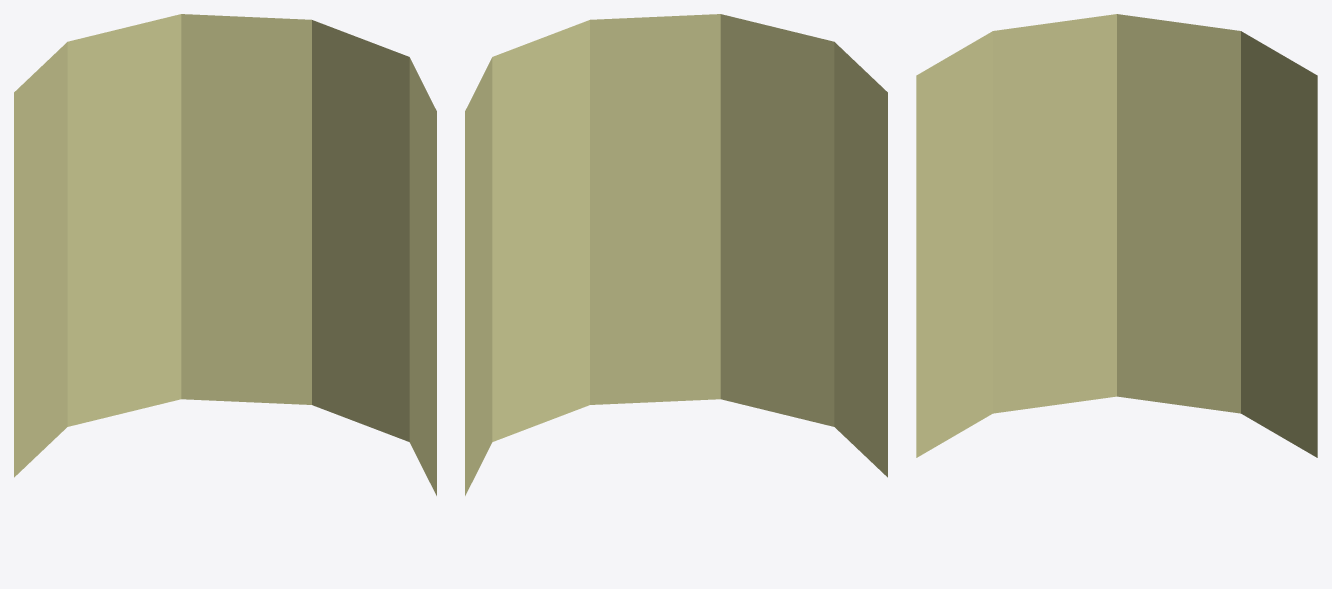
File: fireflies_01.glb
The picture shows the model from 3 angles, left to right: view 1: azimuth 30°, elevation 25°; view 2: azimuth 150°, elevation 25°; view 3: azimuth 270°, elevation 25°; orthographic projection.
Visible parts, largest first — view 1: 萤火光团; view 2: 萤火光团; view 3: 萤火光团.
Part boxes in pixels (<box>): 萤火光团: <box>14,14,436,495</box>; 萤火光团: <box>465,14,887,495</box>; 萤火光团: <box>916,14,1317,457</box>.
Size of the model in its own units: 1 by 1 by 0.9511.
